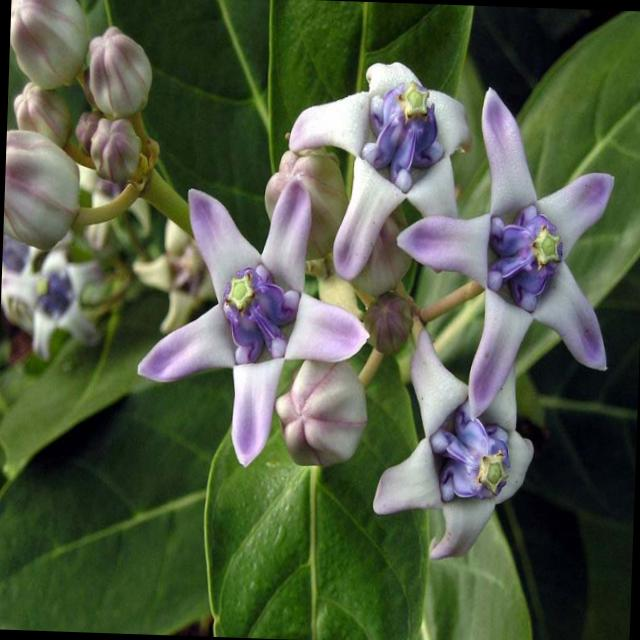Poisonous-Calatropis: (159, 54, 619, 589), (0, 0, 229, 636)
